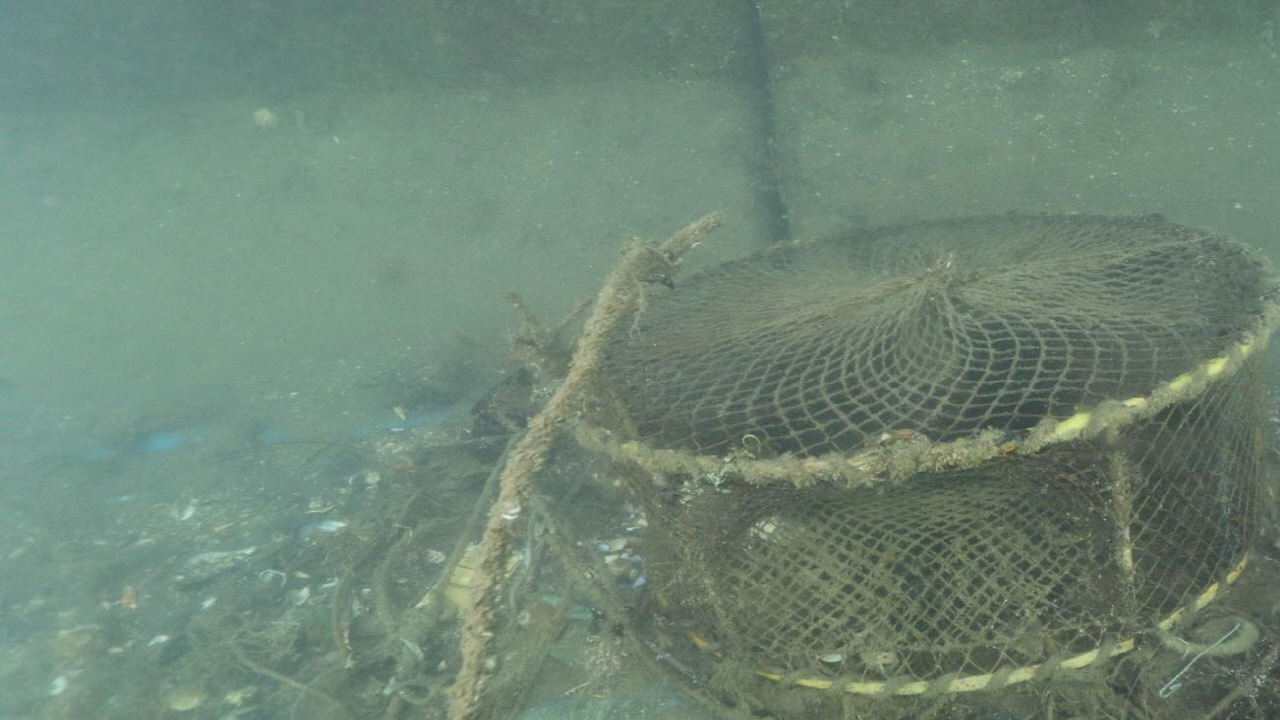circular fish trap: (566, 206, 1280, 698)
